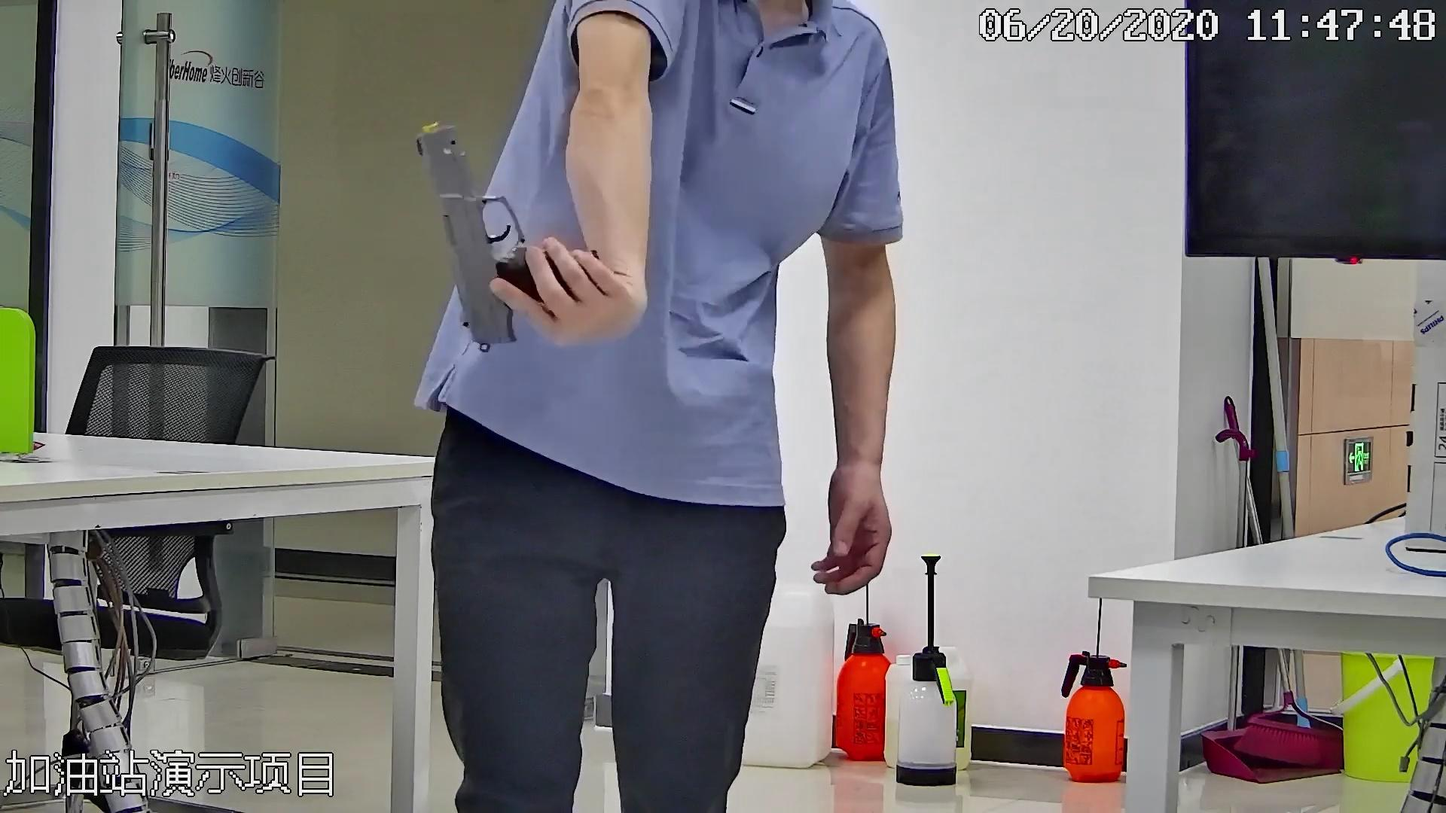gun: (410, 111, 624, 355)
